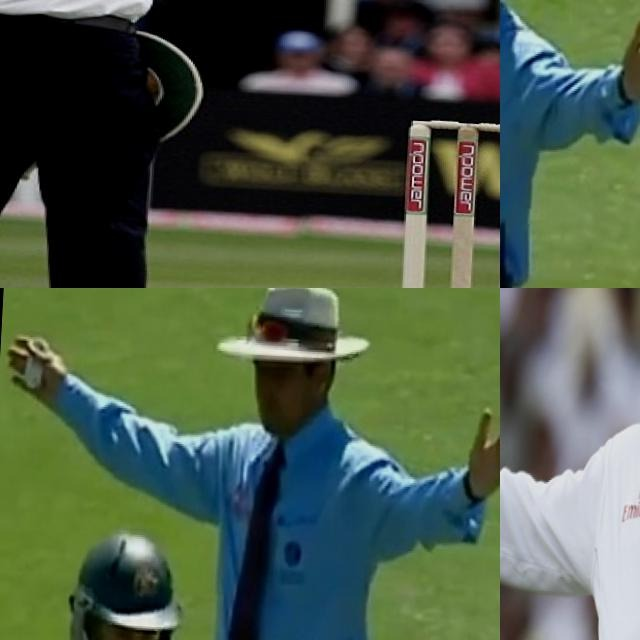Out: (0, 0, 249, 288)
Wide: (0, 288, 500, 640), (500, 288, 640, 640), (500, 0, 640, 202)
